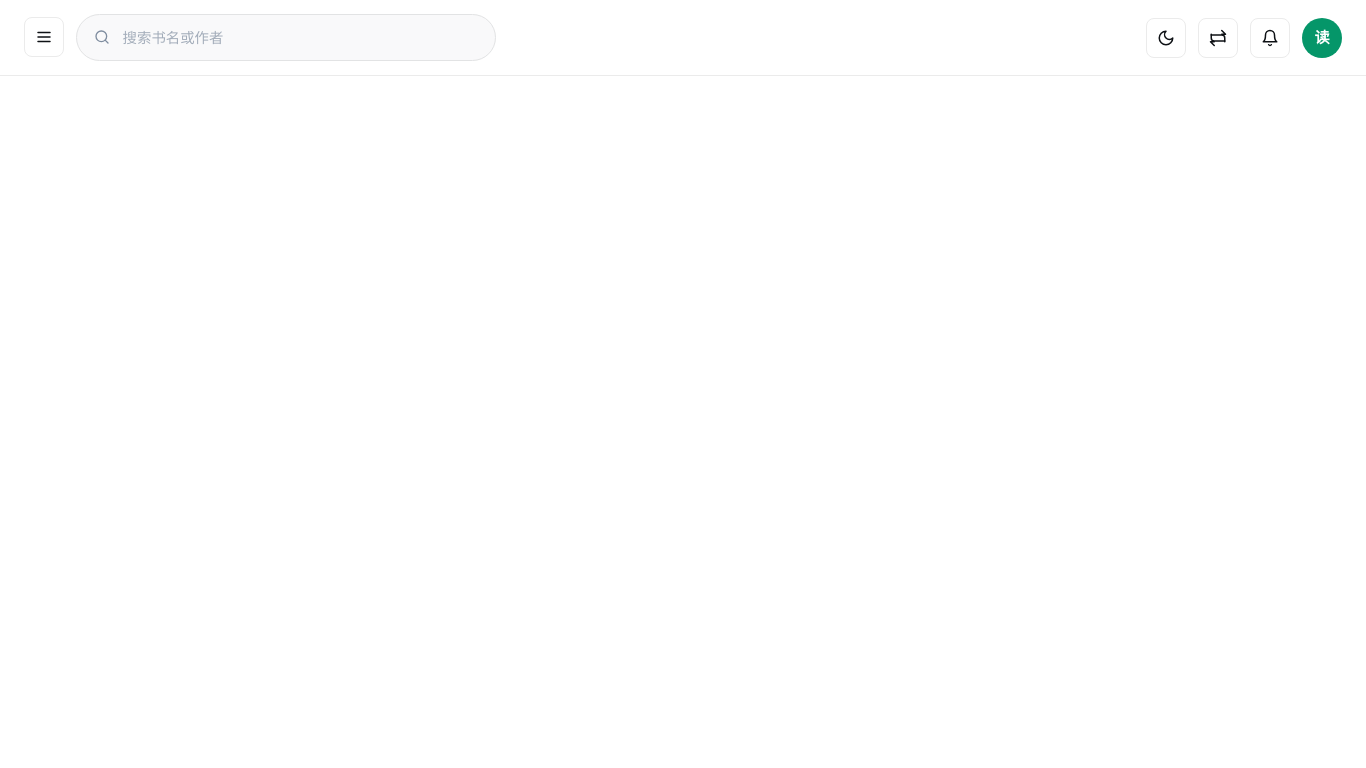
Test: 未读笔记那一句 › 正向对照：读成功且确实没有新笔记时，照旧说「暂无新笔记」
What coordinates should you click on to do the following:
click the button named "通知"
I would click on:
 (1270, 38)
Its box is [1250,18,1290,58].
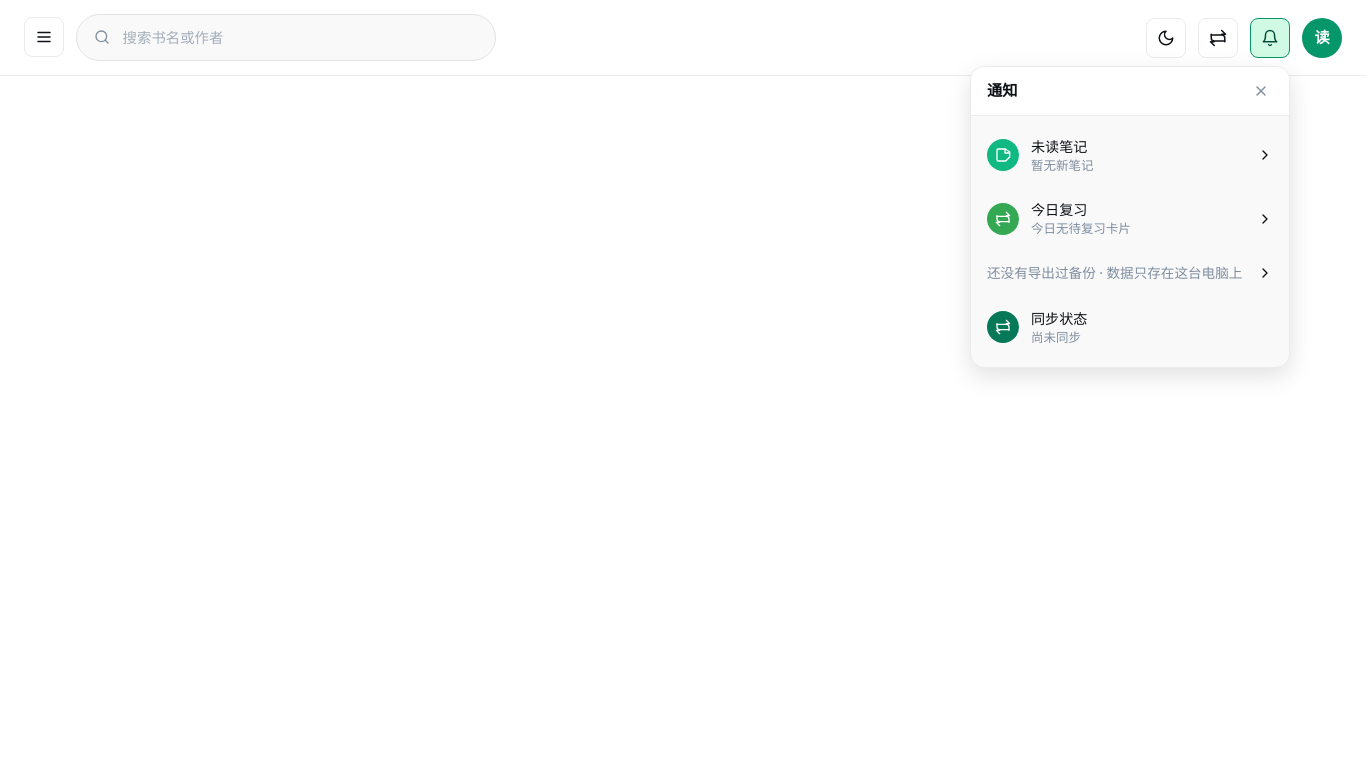
Now the dialog "通知" is shown, box [970,66,1290,368]
Now the text "暂无新笔记" is shown, box [1031,157,1093,174]
